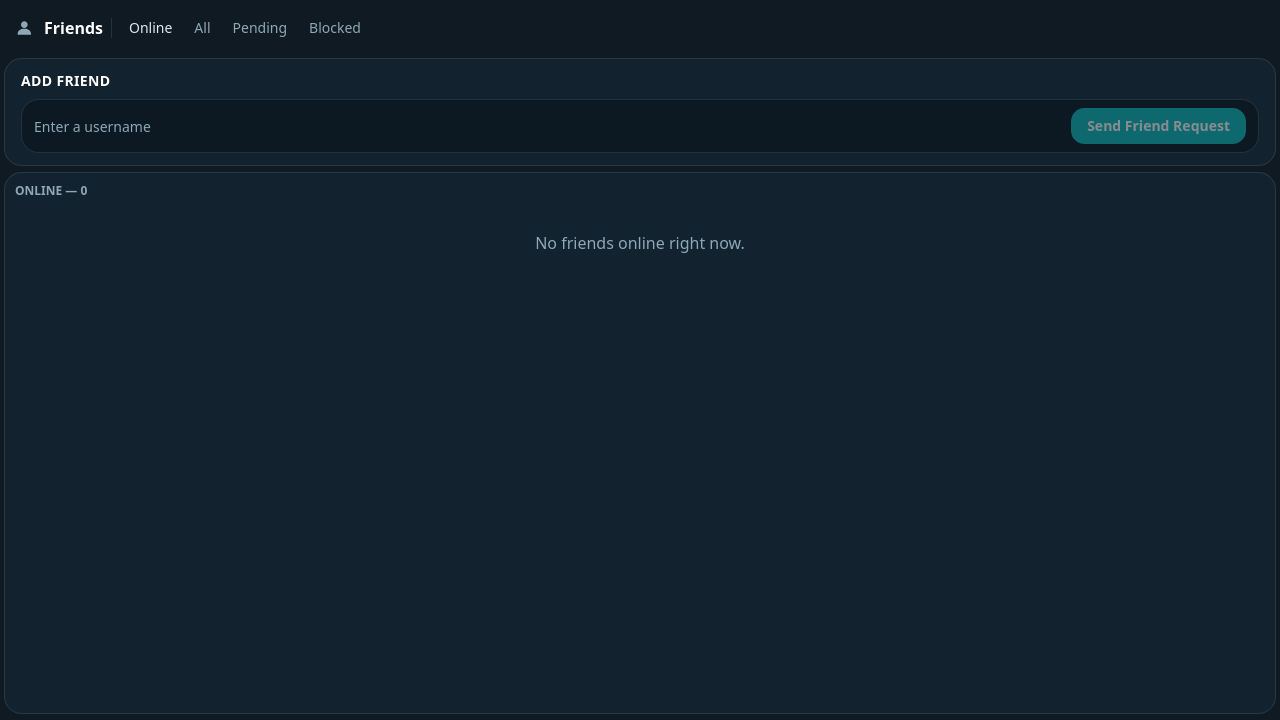
Test: FriendsList › shows empty states per tab
Expected: the text "No friends online right now." is shown, [535,232,745,254]
Click the tab "All": [202, 28] box [185,10,220,46]
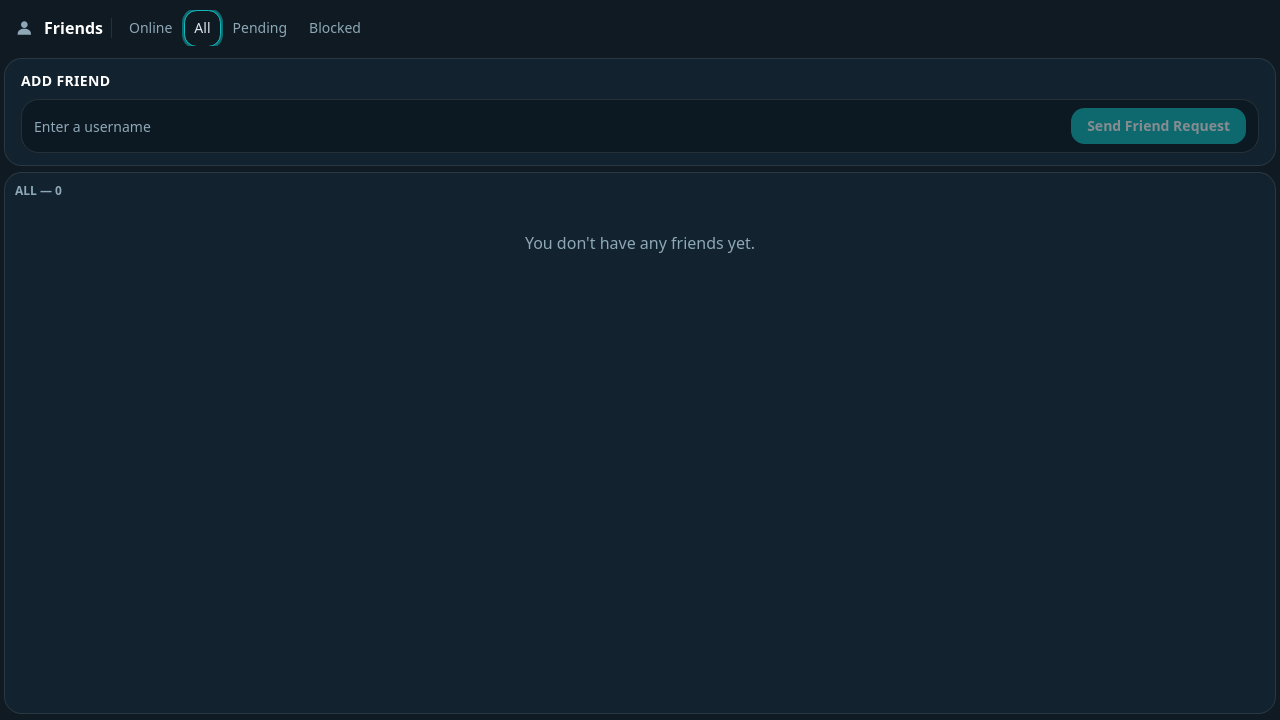
Expected: the text "You don't have any friends yet." is shown, [525,232,755,254]
Click the tab "Pending": [260, 28] box [224,10,296,46]
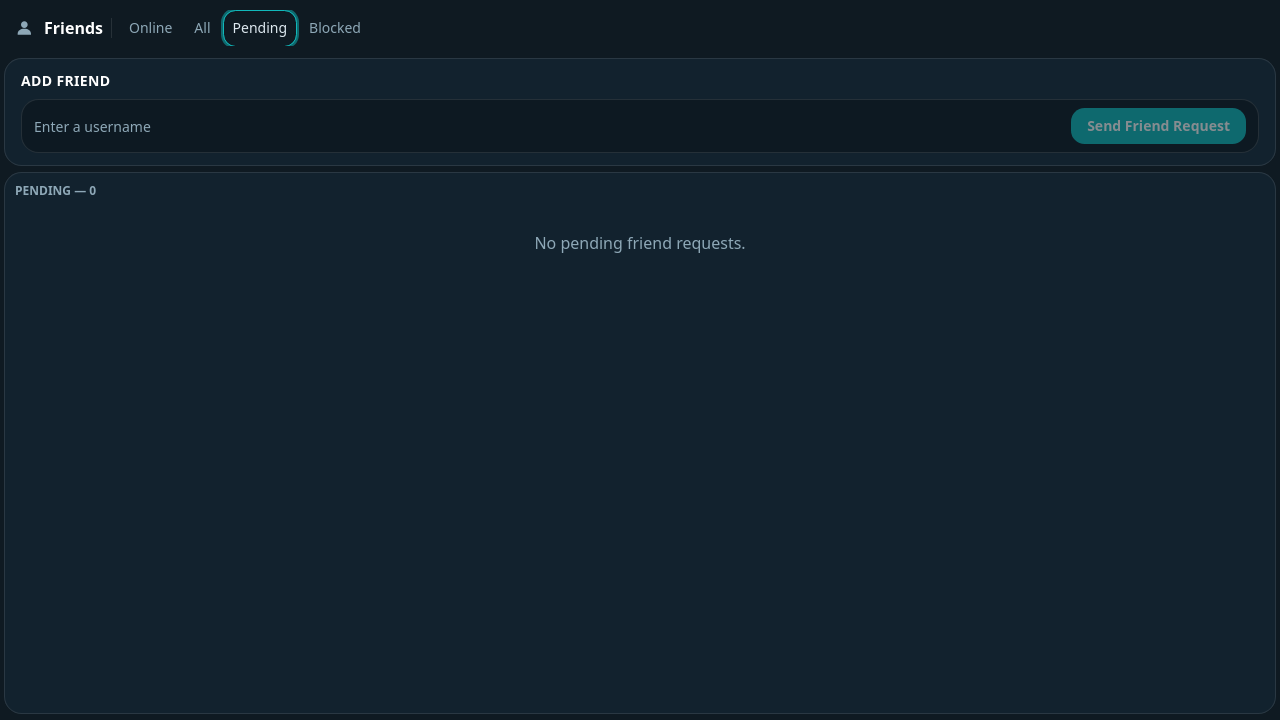
Expected: the text "No pending friend requests." is shown, [534,232,746,254]
Click the tab "Blocked": [335, 28] box [300,10,370,46]
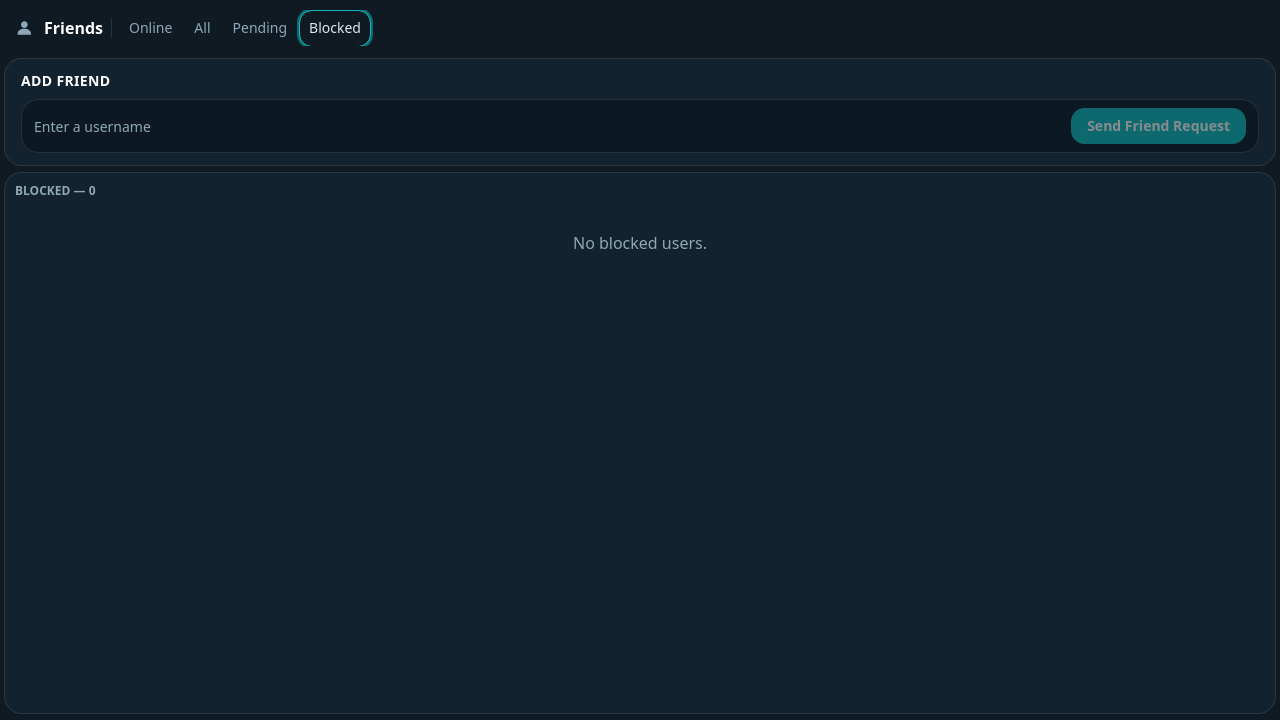
Expected: the text "No blocked users." is shown, [573,232,707,254]
